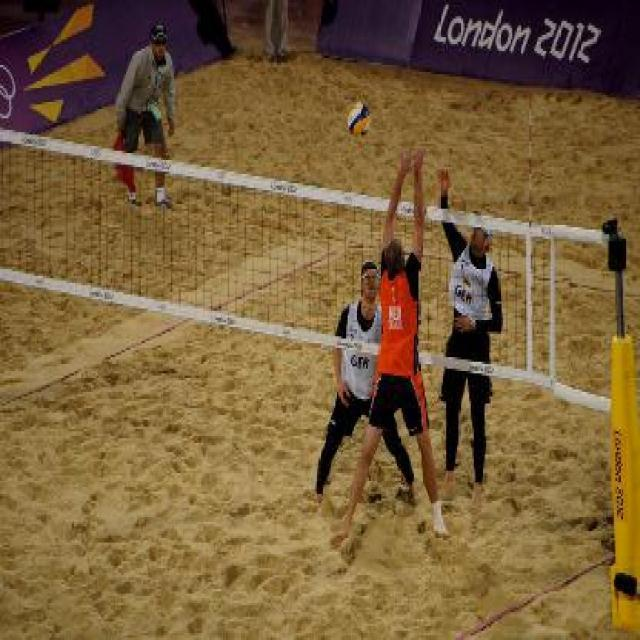volleyball: (348, 105, 372, 136)
